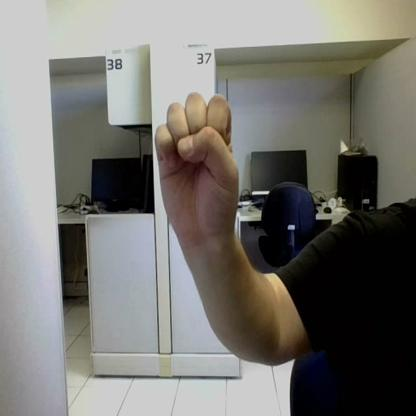S: (156, 93, 237, 231)
